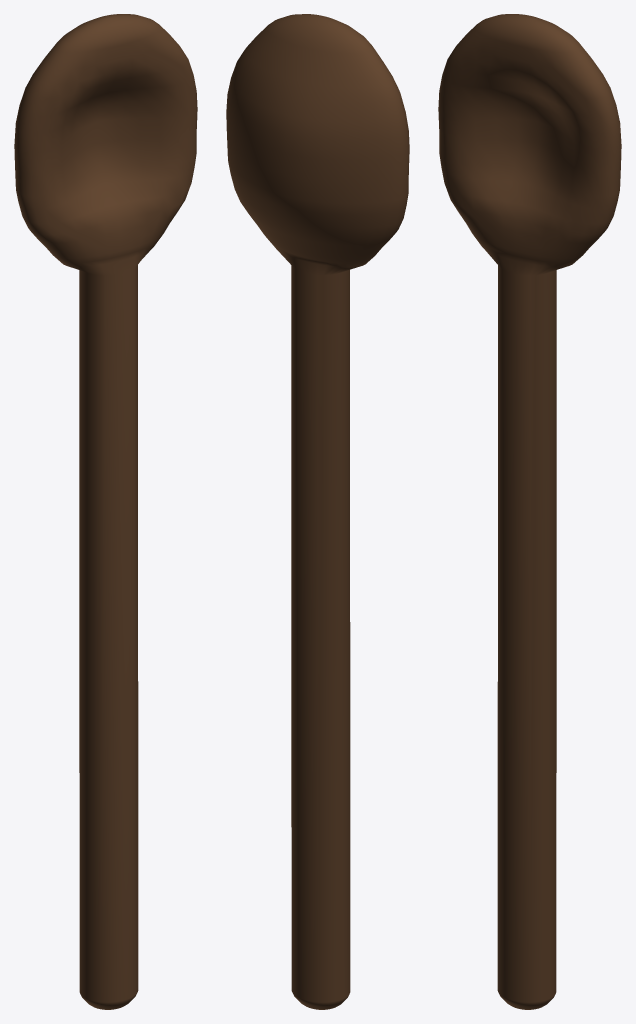
Rendered from WoodenSpoon.fbx.
3 views of the same model, side by side, from view 1: azimuth 30°, elevation 25°; view 2: azimuth 150°, elevation 25°; view 3: azimuth 330°, elevation 25° (orthographic).
Visible parts, largest first — view 1: Cylinder; view 2: Cylinder; view 3: Cylinder.
Boxes of the visible parts, <box> form: Cylinder: <box>14,14,197,1009</box>; Cylinder: <box>226,14,409,1009</box>; Cylinder: <box>438,14,621,1009</box>.
Bounding box in the file's own units: 254 × 1350 × 120.
